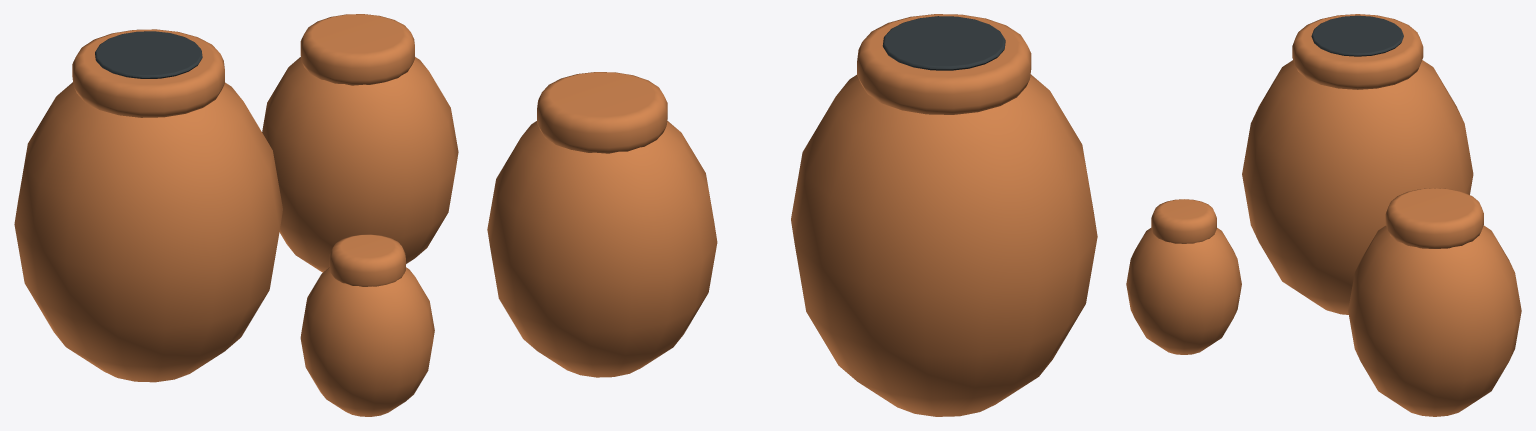
The model's file is BSC-16.glb.
The picture shows the model from 3 angles, left to right: view 1: azimuth 30°, elevation 25°; view 2: azimuth 150°, elevation 25°; view 3: azimuth 270°, elevation 25°; orthographic projection. The views are drawn at different scales.
Parts seen in each view (by area): view 1: pot, pot.001, pot.002, rim, rim.001, opening, rim.002; view 2: pot, pot.001, rim, rim.001, opening; view 3: pot, pot.001, pot.002, rim, rim.001, opening, rim.002.
Boxes of the visible parts, x1,y1,x2,y2 form: pot: (14, 82, 282, 382); pot.001: (262, 57, 458, 272); pot.002: (300, 267, 434, 416); rim: (72, 29, 224, 117); rim.001: (300, 14, 414, 85); opening: (95, 31, 202, 78); rim.002: (329, 234, 405, 286); pot: (791, 74, 1097, 416); pot.001: (487, 121, 717, 377); rim: (857, 14, 1031, 114); rim.001: (537, 72, 667, 153); opening: (882, 16, 1005, 70); pot: (1242, 60, 1473, 314); pot.001: (1348, 225, 1521, 416); pot.002: (1126, 228, 1241, 354); rim: (1292, 14, 1423, 89); rim.001: (1385, 188, 1483, 248); opening: (1311, 15, 1403, 56); rim.002: (1151, 199, 1216, 243).
Size of the model in its own units: 1.17 by 0.78 by 1.02.
